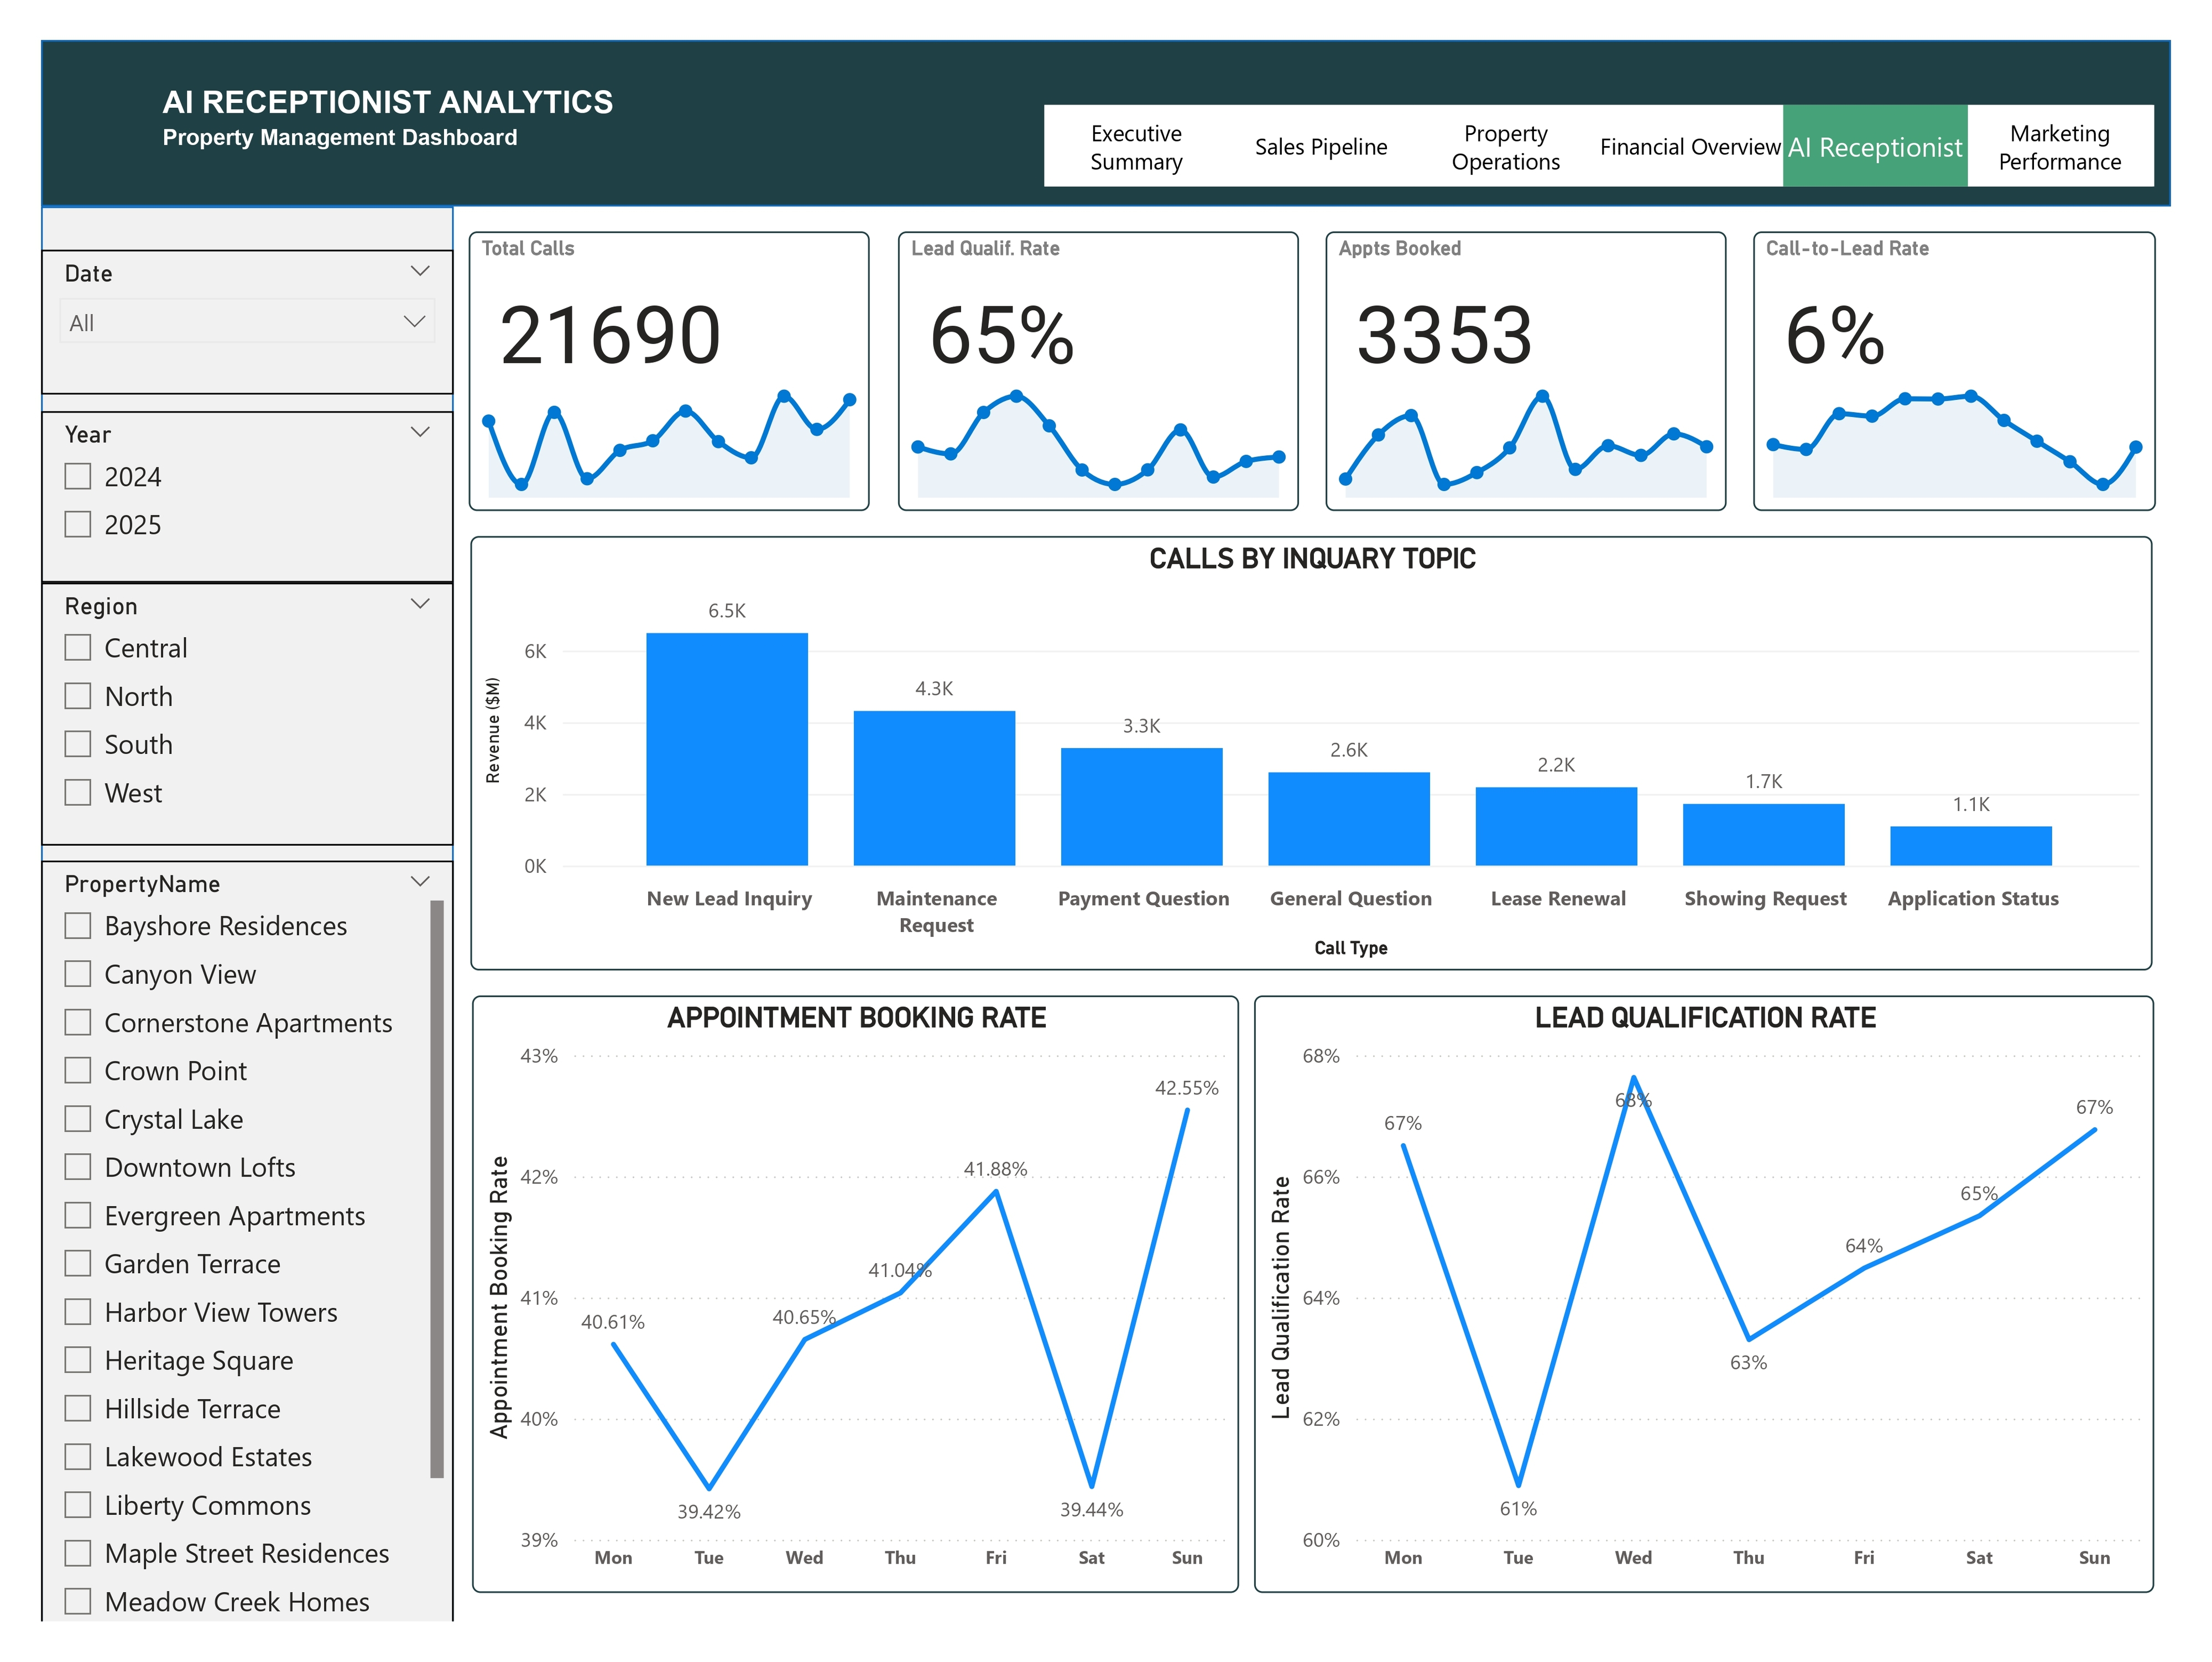

This screenshot's page, from the dashboard's own definition file:
{"tool":"powerbi","page":{"name":"AI Receptionist","canvas":[1280,950],"ordinal":4},"visuals":[{"type":"shape","box":[0,0,1280,100],"z":0},{"type":"PBI_CV_7B952816_A48F_49B4_9E13_15E3BB2C0337","title":"Total Calls","fields":{"axis":["DateTable.Date.Variation.Date Hierarchy.Month"],"Values":["_Measures.Total Calls"]},"box":[256.6,115.7,241.2,168],"z":0,"group":"g1"},{"type":"shape","box":[0,100,247.8,950],"z":1000},{"type":"PBI_CV_7B952816_A48F_49B4_9E13_15E3BB2C0337","title":"Lead Qualif. Rate","fields":{"axis":["DateTable.Date.Variation.Date Hierarchy.Month"],"Values":["_Measures.Lead Qualification Rate"]},"box":[514.2,115.3,241,168],"z":1000,"group":"g1"},{"type":"textbox","box":[67.8,22.2,412.2,55.6],"z":2000},{"type":"PBI_CV_7B952816_A48F_49B4_9E13_15E3BB2C0337","title":"Appts Booked","fields":{"axis":["DateTable.Date.Variation.Date Hierarchy.Month"],"Values":["_Measures.Appointments Booked"]},"box":[771.7,115.3,241,168],"z":2000,"group":"g1"},{"type":"PBI_CV_7B952816_A48F_49B4_9E13_15E3BB2C0337","title":"Call-to-Lead Rate","fields":{"axis":["DateTable.Date.Variation.Date Hierarchy.Month"],"Values":["_Measures.AI Call to Lead Conversion"]},"box":[1029.1,115.7,241.1,168.1],"z":3000,"group":"g1"},{"type":"slicer","fields":{"Values":["DateTable.Date"]},"box":[0,126.1,247.9,87],"z":3000},{"type":"slicer","fields":{"Values":["DateTable.Date.Variation.Date Hierarchy.Year"]},"box":[0,223.2,247.9,102.9],"z":4000},{"type":"slicer","fields":{"Values":["Properties.Region"]},"box":[0,326.2,247.9,158],"z":5000},{"type":"slicer","fields":{"Values":["Properties.PropertyName"]},"box":[0,492.9,247.9,532],"z":6000},{"type":"pageNavigator","box":[603,39.1,666.8,49.3],"z":7000},{"type":"clusteredColumnChart","title":"CALLS BY INQUARY TOPIC","fields":{"Category":["AIReceptionistCalls.CallType"],"Y":["_Measures.Total Calls"]},"box":[257.5,297.5,1011.2,261.2],"z":8000},{"type":"lineChart","title":"LEAD QUALIFICATION RATE","fields":{"Category":["DateTable.Short Weekday"],"Y":["_Measures.Lead Qualification Rate"]},"box":[728.8,573.8,541.2,358.8],"z":9000},{"type":"group","id":"g1","title":"Group 1","box":[256.6,115.3,1013.6,168.4],"z":11000},{"type":"lineChart","title":"APPOINTMENT BOOKING RATE","fields":{"Category":["DateTable.Short Weekday"],"Y":["_Measures.Appointment Booking Rate"]},"box":[258.6,574.3,461.4,358.6],"z":12000}]}

Visuals, with their boxes in screenshot pixels (x1, y1, x2, y2), scaled from the page's 1280x950 canvas onto the 2212x1662 screenshot:
shape: l=0, t=0, r=2211, b=175
"Total Calls" PBI_CV_7B952816_A48F_49B4_9E13_15E3BB2C0337: l=444, t=202, r=860, b=496
shape: l=0, t=175, r=428, b=1661
"Lead Qualif. Rate" PBI_CV_7B952816_A48F_49B4_9E13_15E3BB2C0337: l=889, t=202, r=1305, b=496
textbox: l=117, t=39, r=830, b=136
"Appts Booked" PBI_CV_7B952816_A48F_49B4_9E13_15E3BB2C0337: l=1334, t=202, r=1750, b=496
"Call-to-Lead Rate" PBI_CV_7B952816_A48F_49B4_9E13_15E3BB2C0337: l=1778, t=202, r=2195, b=497
slicer - DateTable.Date: l=0, t=221, r=429, b=373
slicer - DateTable.Date.Variation.Date Hierarchy.Year: l=0, t=390, r=429, b=571
slicer - Properties.Region: l=0, t=571, r=429, b=847
slicer - Properties.PropertyName: l=0, t=862, r=429, b=1661
pageNavigator: l=1042, t=69, r=2194, b=155
"CALLS BY INQUARY TOPIC" clusteredColumnChart: l=445, t=520, r=2193, b=977
"LEAD QUALIFICATION RATE" lineChart: l=1260, t=1004, r=2195, b=1632
"Group 1" group: l=444, t=202, r=2195, b=496
"APPOINTMENT BOOKING RATE" lineChart: l=447, t=1005, r=1244, b=1632
